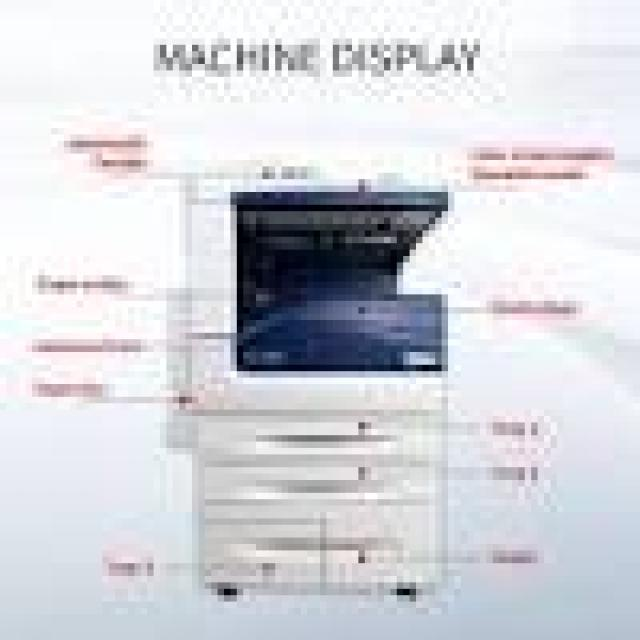printer: (153, 142, 491, 626)
